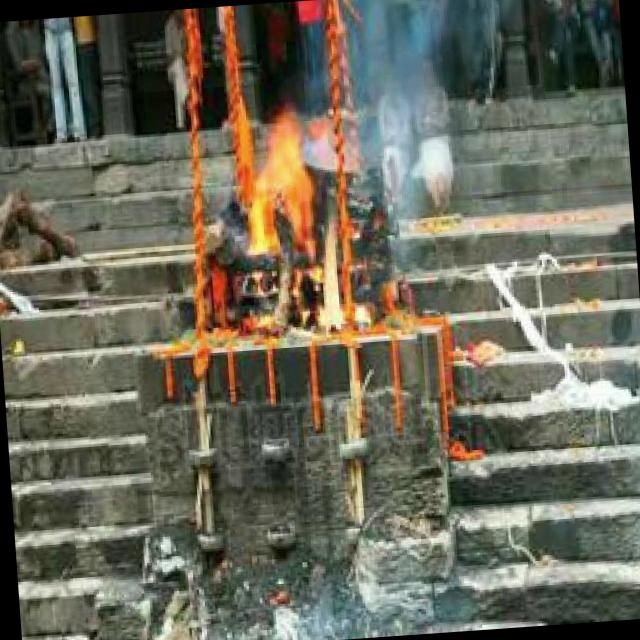fire: (238, 96, 350, 338)
